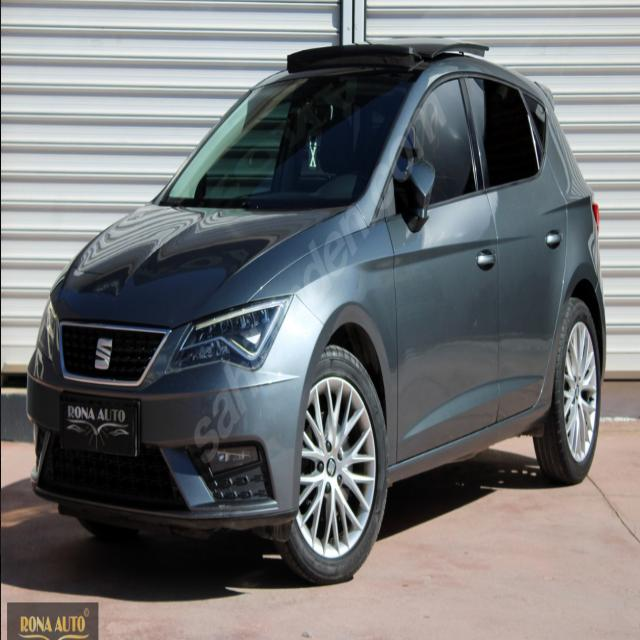seat: (94, 333, 114, 374)
